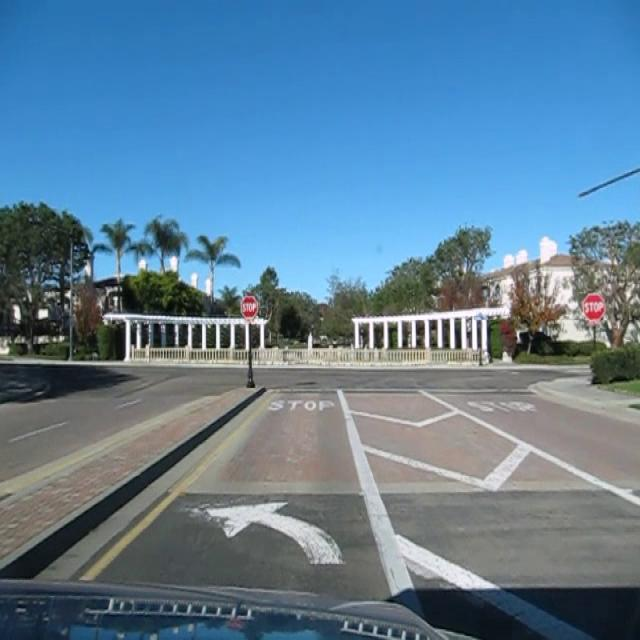stop: (581, 291, 605, 321), (240, 293, 258, 320)
